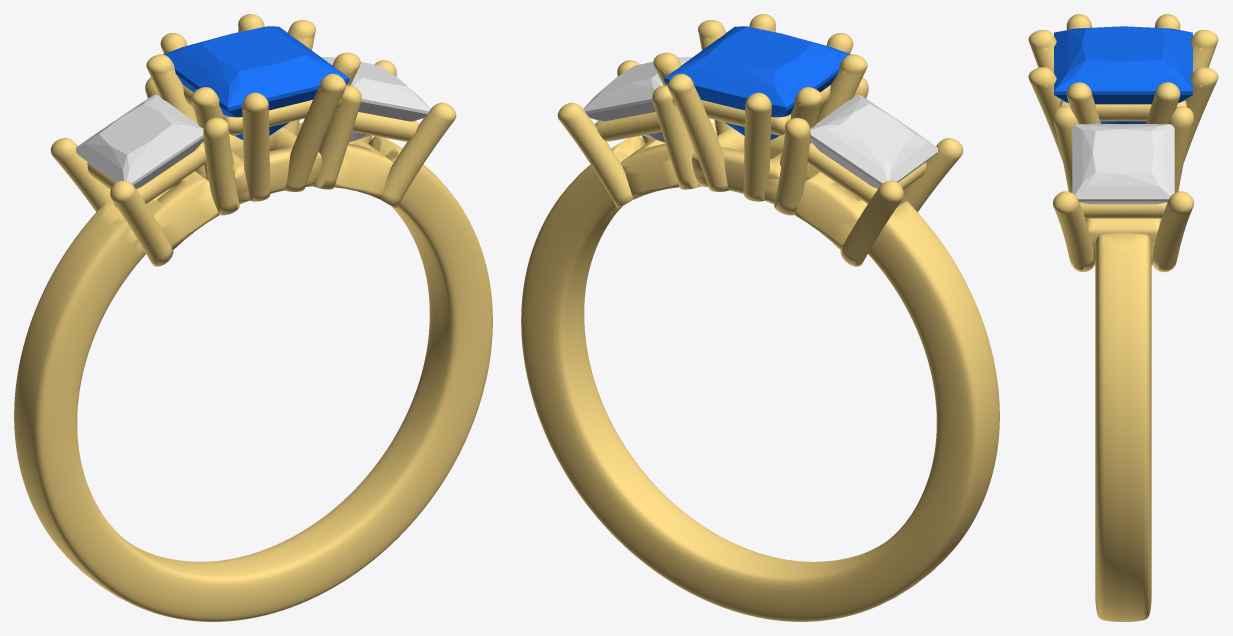
File: bluesapphire-princess-yellowgold-8prong-straightband-3stone.glb
3 renders of one model, left to right at view 1: azimuth 30°, elevation 25°; view 2: azimuth 150°, elevation 25°; view 3: azimuth 270°, elevation 25°, orthographic.
Parts seen in each view (by area): view 1: metal, stone, side, side.001; view 2: metal, stone, side, side.001; view 3: metal, stone, side.001.
Part boxes in pixels (x1,y1,x2,y2): metal: (14, 14, 492, 621); stone: (163, 26, 349, 139); side: (76, 95, 203, 188); side.001: (321, 57, 430, 142); metal: (521, 14, 999, 621); stone: (664, 26, 850, 139); side: (810, 95, 937, 188); side.001: (583, 57, 692, 142); metal: (1028, 14, 1218, 621); stone: (1054, 26, 1192, 123); side.001: (1072, 124, 1174, 204).
Size of the model in its own units: 20.51 by 23.85 by 7.42.
